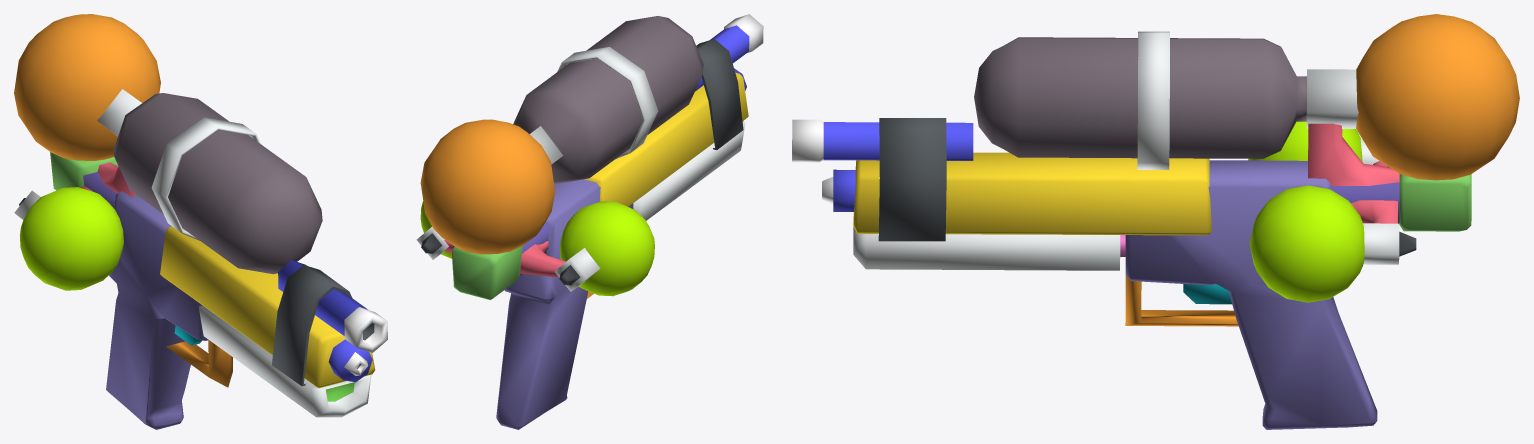
The model's file is Watergun15.fbx.
The picture shows the model from 3 angles, left to right: view 1: azimuth 30°, elevation 25°; view 2: azimuth 150°, elevation 25°; view 3: azimuth 270°, elevation 25°; orthographic projection. The views are drawn at different scales.
Parts seen in each view (by area): view 1: Watergun15; view 2: Watergun15; view 3: Watergun15.
Part boxes in pixels (<box>): Watergun15: <box>14,14,387,429</box>; Watergun15: <box>416,14,763,429</box>; Watergun15: <box>792,14,1519,429</box>.
Bounding box in the file's own units: 0.1862 × 0.2601 × 0.4301.
